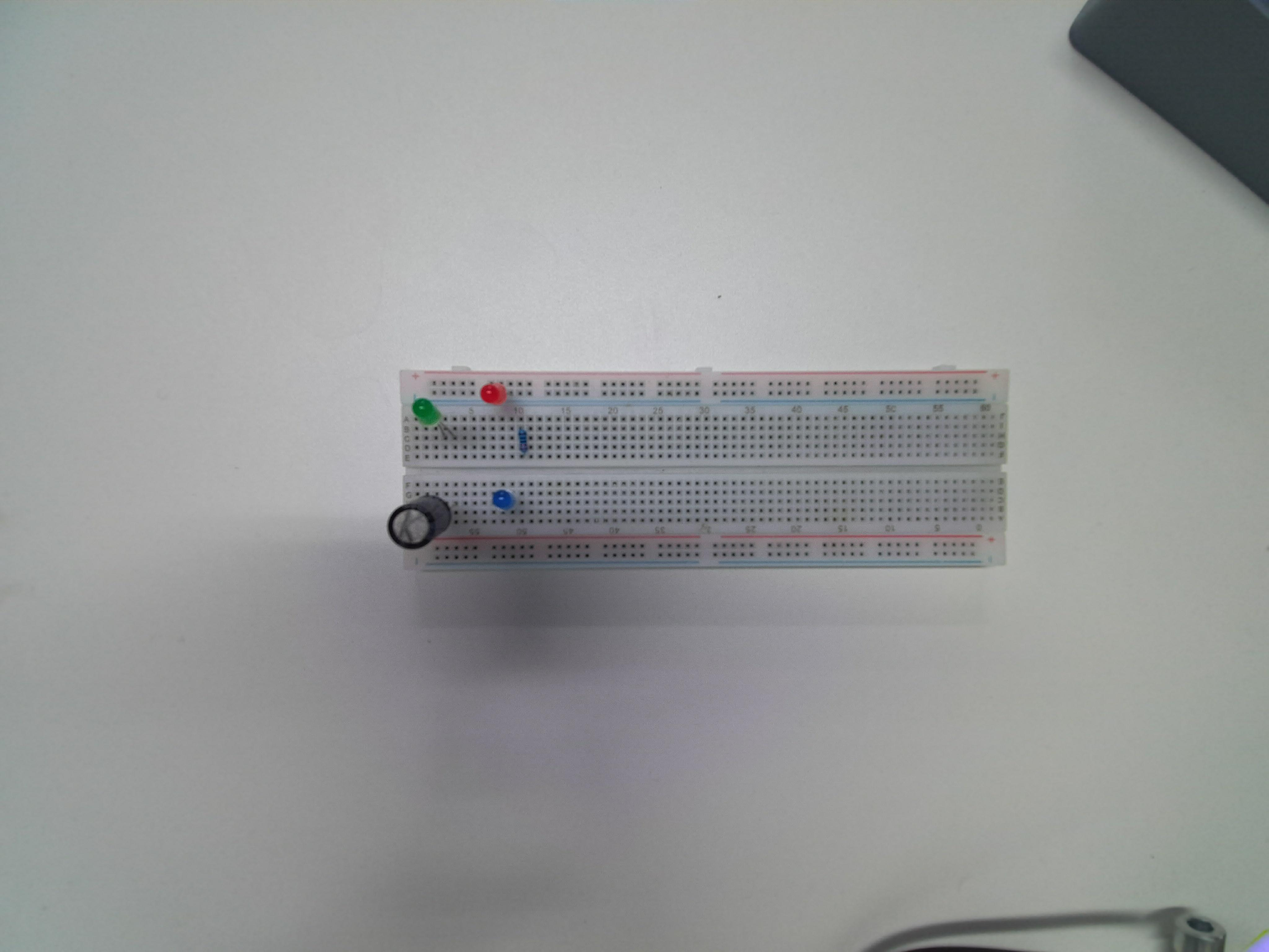base: (392, 370, 1010, 577)
blue-led: (487, 487, 514, 510)
capacitor: (386, 496, 448, 550)
green-led: (410, 395, 443, 434)
red-led: (477, 378, 508, 408)
resistor-small: (515, 427, 529, 453)
